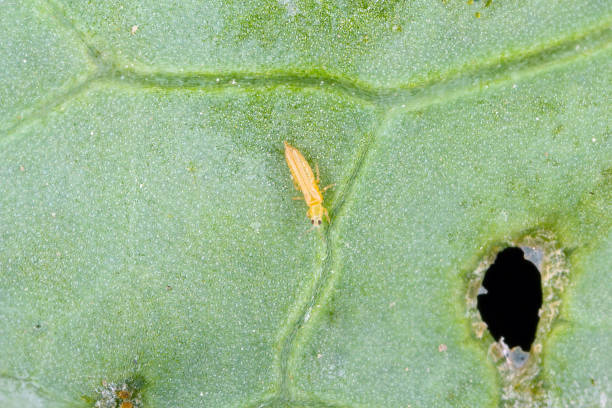Thrips: (263, 132, 345, 232)
